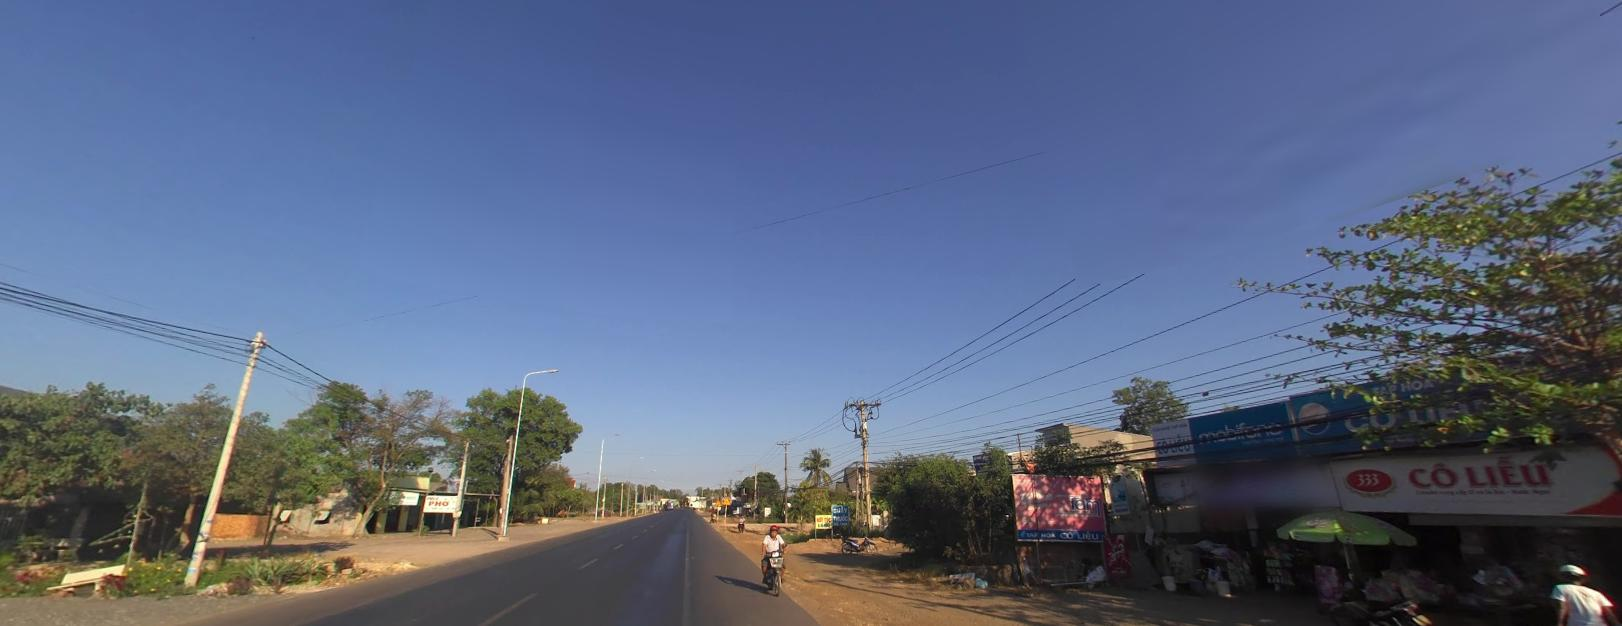Nguy hiem: (721, 495, 731, 504), (714, 497, 721, 504)
